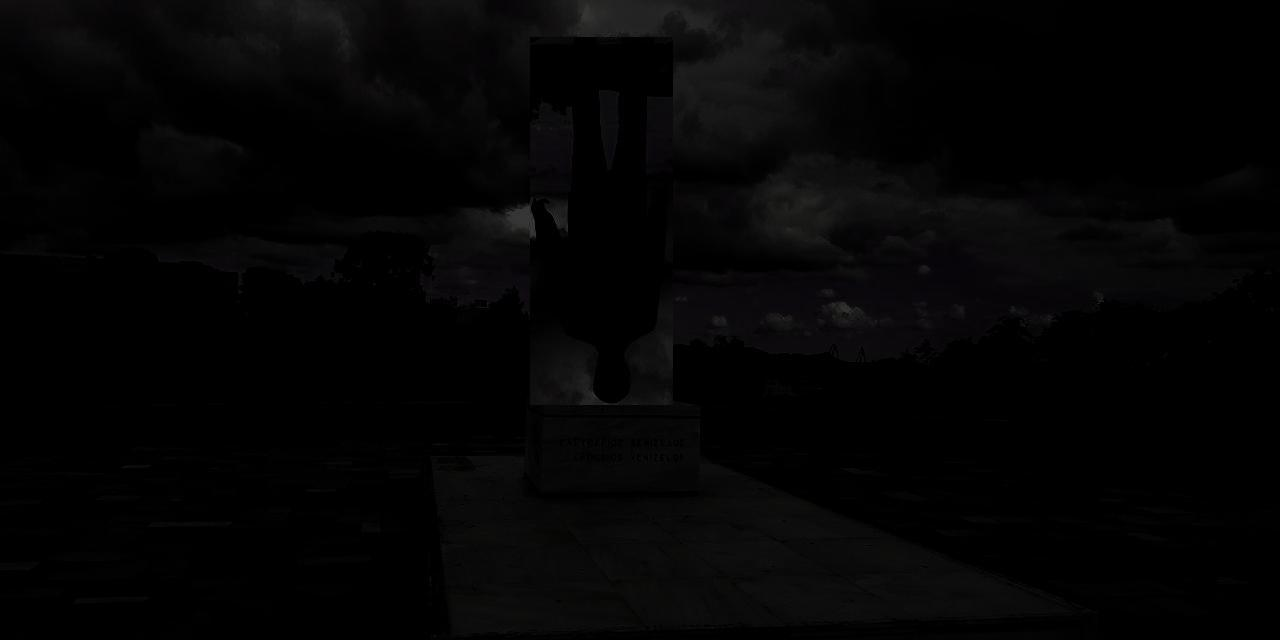Venizelos: (531, 38, 674, 406)
